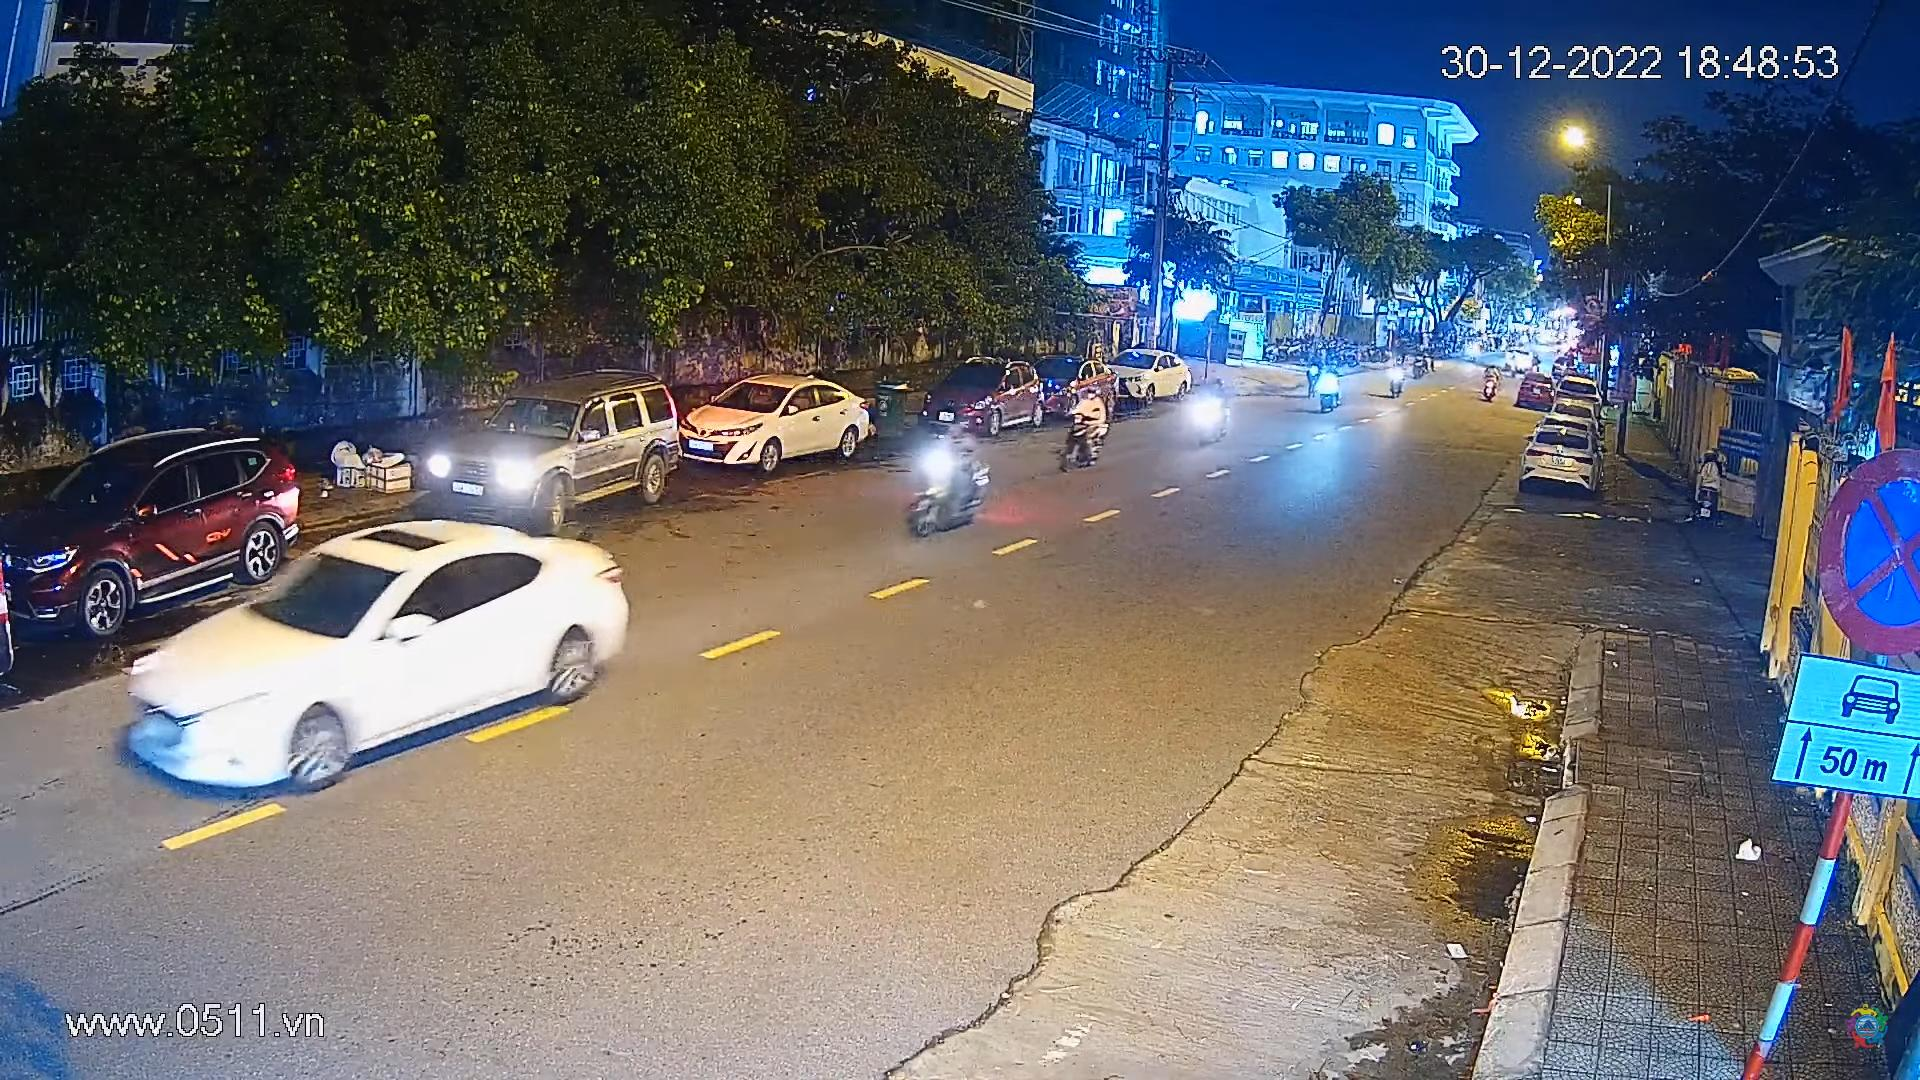car: (119, 508, 645, 802), (0, 423, 301, 649), (436, 363, 687, 527), (683, 368, 877, 477), (918, 352, 1055, 436), (1518, 422, 1602, 492), (1106, 348, 1199, 404), (1034, 353, 1116, 415), (1515, 368, 1557, 414), (1552, 375, 1606, 409), (1551, 396, 1606, 429)
motorcycle: (901, 419, 993, 558), (1055, 381, 1112, 472), (1687, 444, 1734, 524), (1187, 375, 1234, 447), (1315, 359, 1344, 413), (1478, 357, 1502, 407), (1383, 348, 1407, 396), (1410, 342, 1435, 381)
